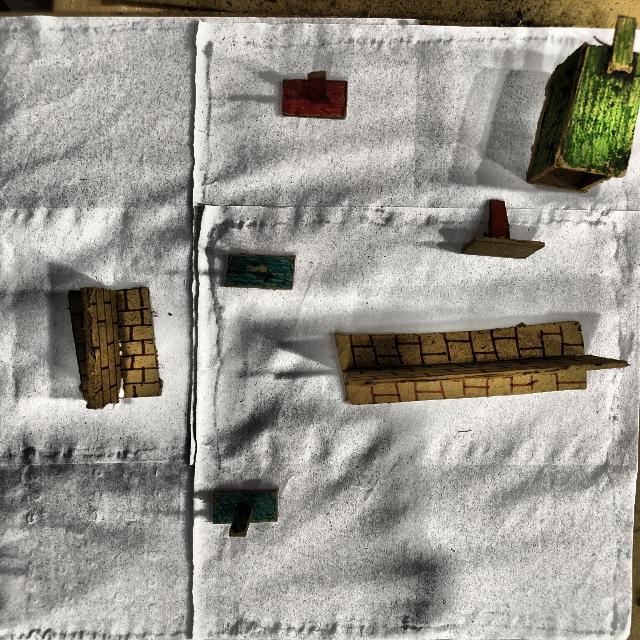Dead soldier -enemy-: (459, 199, 546, 262)
Tank: (525, 22, 640, 195)
Wall: (330, 321, 628, 408), (62, 286, 165, 411)
enemy: (277, 69, 352, 123)
friend: (210, 488, 284, 540), (222, 253, 307, 295)
